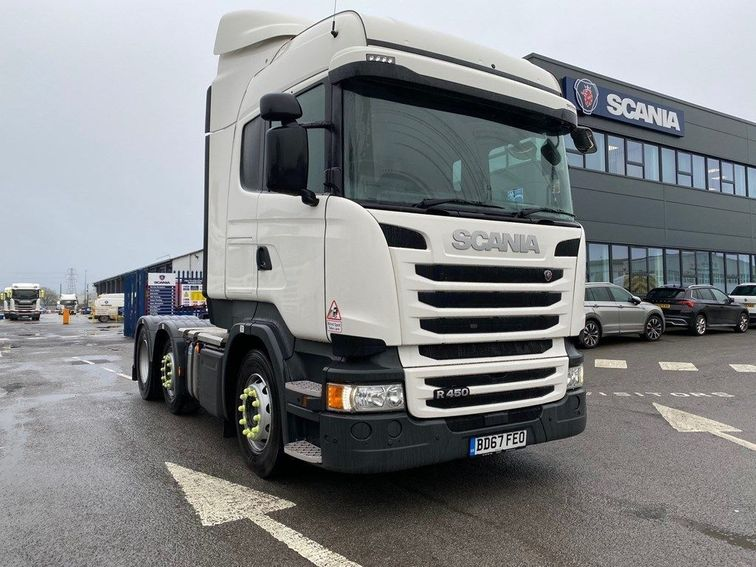Car: (576, 280, 665, 347), (643, 284, 746, 334)
Semi: (132, 9, 587, 480)
